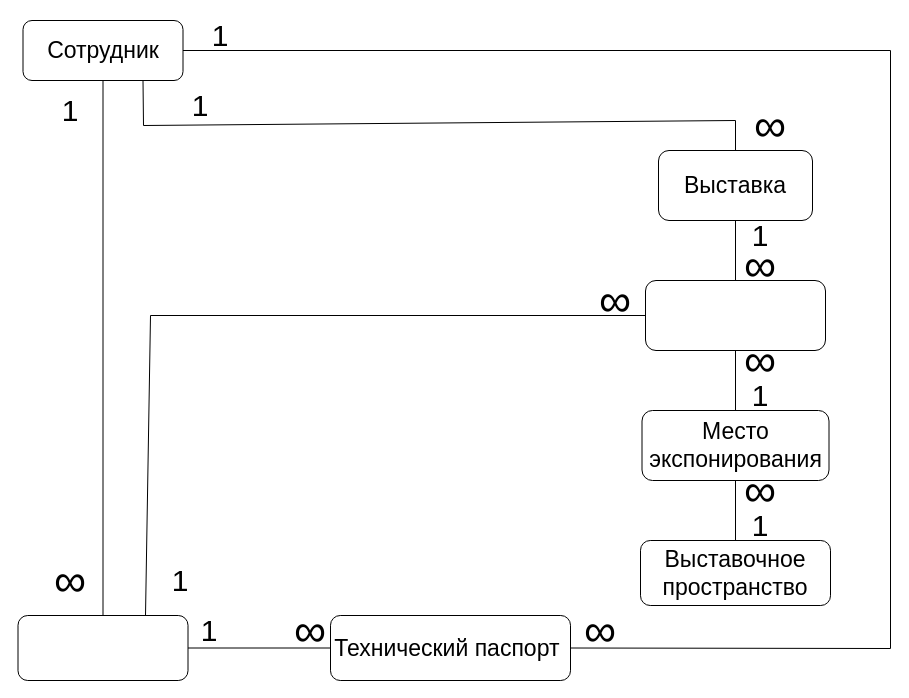
Image size: 909x698. Some labels were removed from this diagram. Each missing label, with the centre of its shape:
Размещение экспоната: the point at 735,315
Экспонат: the point at 102,647
